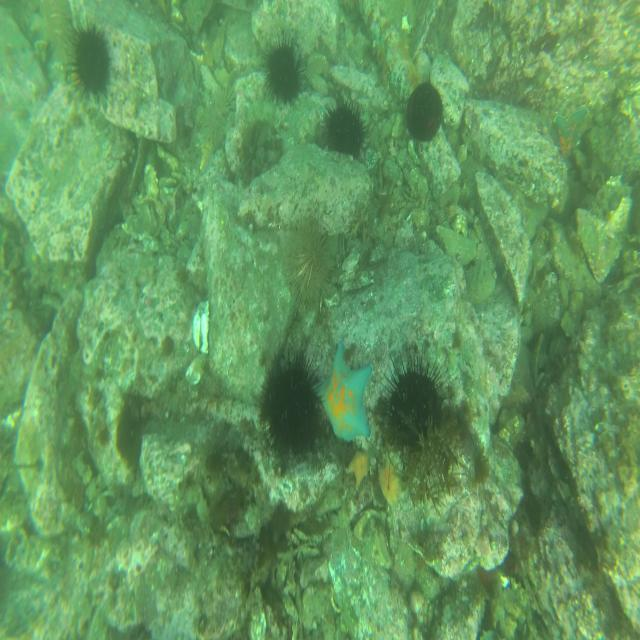echinus: (254, 358, 324, 465), (380, 354, 448, 458), (280, 218, 332, 303), (68, 27, 116, 98), (319, 100, 369, 163), (264, 38, 306, 106), (404, 83, 444, 143), (202, 88, 236, 152)
starfish: (315, 340, 377, 444), (551, 103, 587, 164), (376, 458, 400, 505), (346, 447, 371, 488)
